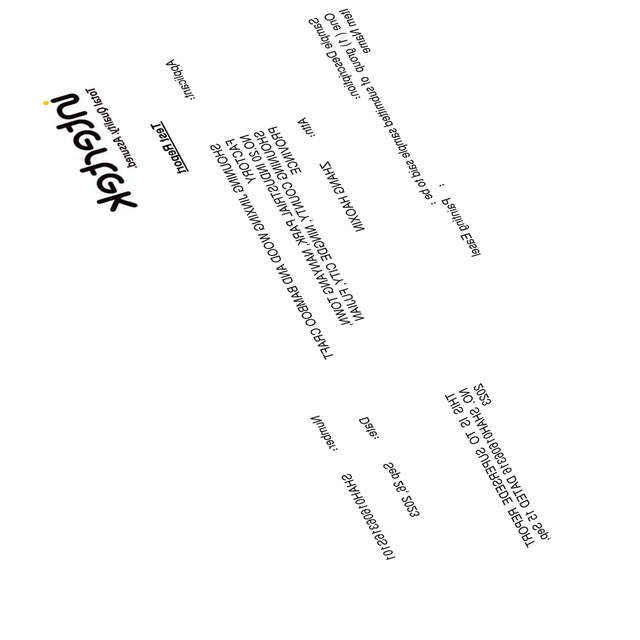intertek: (42, 90, 140, 214)
